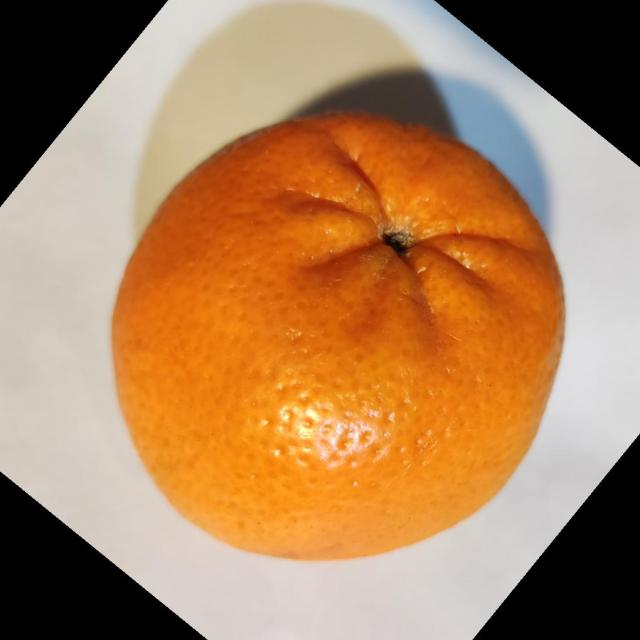fresh orange: (109, 109, 567, 562)
